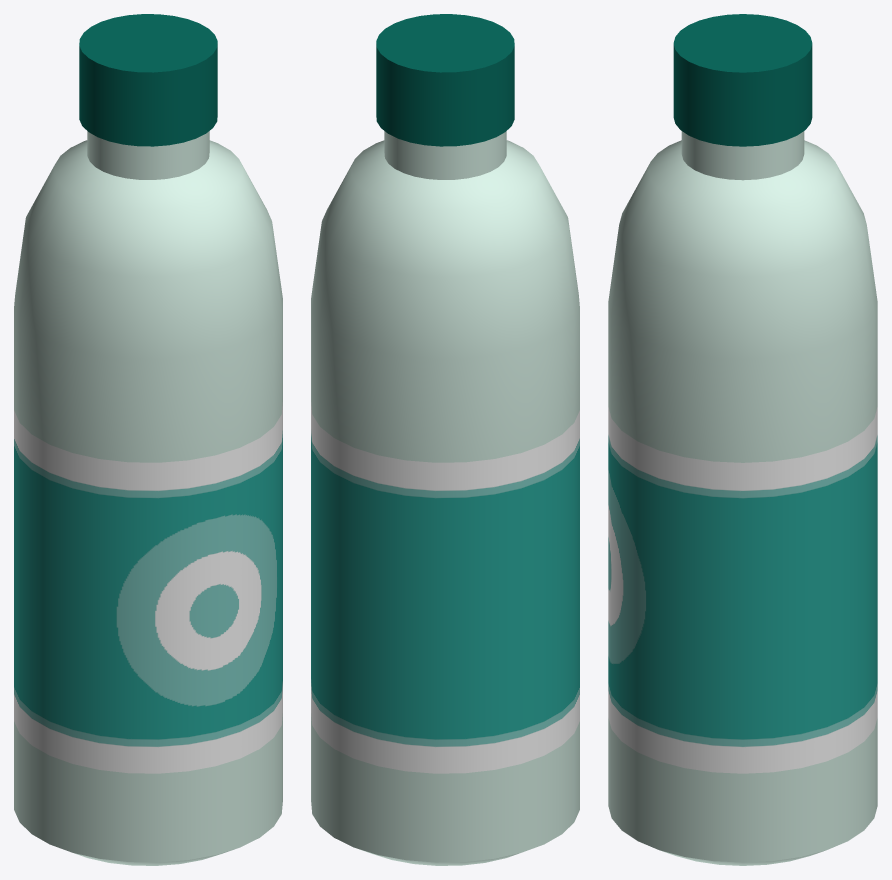
File: Sparkling_Water.fbx
3 renders of one model, left to right at view 1: azimuth 30°, elevation 25°; view 2: azimuth 150°, elevation 25°; view 3: azimuth 270°, elevation 25°, orthographic.
Parts seen in each view (by area): view 1: Sparkling_Water; view 2: Sparkling_Water; view 3: Sparkling_Water.
Boxes of the visible parts, left/top/right/bottom form: Sparkling_Water: left=14, top=14, right=282, bottom=865; Sparkling_Water: left=311, top=14, right=579, bottom=865; Sparkling_Water: left=608, top=14, right=877, bottom=865.
Bounding box in the file's own units: 0.066 × 0.21 × 0.066.
3 materials, 1 textured.
